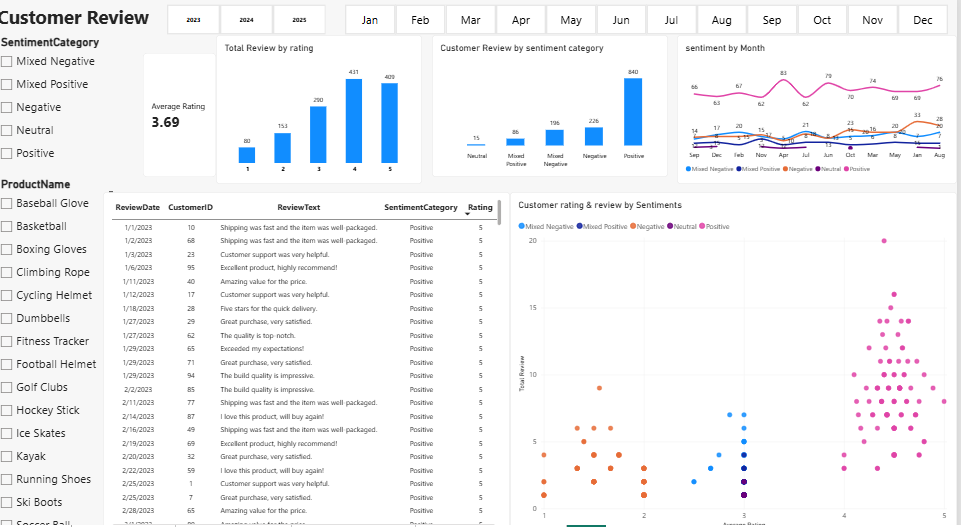

The page's visual inventory and layout, read from the dashboard file:
{"tool":"powerbi","page":{"name":"Customer Review","canvas":[1920,1080],"ordinal":3},"visuals":[{"type":"cardVisual","fields":{"Data":["Calculation.Average Rating"]},"box":[292,112,146,248],"z":0},{"type":"textbox","box":[0,14,324,62],"z":1000},{"type":"slicer","fields":{"Values":["products.ProductName"]},"box":[0,360,232,720],"z":2000},{"type":"slicer","fields":{"Values":["DateTable.Year"]},"box":[320,14,356,62],"z":3000},{"type":"slicer","fields":{"Values":["DateTable.Month Short"]},"box":[676,14,1244,62],"z":4000},{"type":"columnChart","title":"Total Review by rating","fields":{"Category":["customer_reviews_sentement.Rating"],"Y":["Calculation.Total Review"]},"box":[438,76,412,298],"z":4001},{"type":"columnChart","title":"Customer Review by sentiment category","fields":{"Category":["customer_reviews_sentement.SentimentCategory"],"Y":["Calculation.Total Review"]},"box":[870,76,472,284],"z":4002},{"type":"lineChart","title":"sentiment by Month","fields":{"Category":["DateTable.Month Short"],"Series":["customer_reviews_sentement.SentimentCategory"],"Y":["Calculation.Total Review"]},"box":[1360,76,560,298],"z":4003},{"type":"tableEx","fields":{"Values":["customer_reviews_sentement.ReviewDate","customer_reviews_sentement.CustomerID","customer_reviews_sentement.ReviewText","customer_reviews_sentement.SentimentCategory","customer_reviews_sentement.Rating"]},"box":[212,390,814,690],"z":4004},{"type":"scatterChart","title":"Customer rating & review by Sentiments","fields":{"Category":["customer_reviews_sentement.CustomerID"],"Series":["customer_reviews_sentement.SentimentCategory"],"X":["Calculation.Average Rating"],"Y":["Calculation.Total Review"]},"box":[1026,390,894,690],"z":4005},{"type":"slicer","fields":{"Values":["customer_reviews_sentement.SentimentCategory"]},"box":[0,76,264,262],"z":4006}]}

Visuals, with their boxes in screenshot pixels (x1, y1, x2, y2), scaled from the page's 1920x1080 canvas onto the 961x527 screenshot:
cardVisual - Calculation.Average Rating: <bbox>146, 55, 219, 176</bbox>
textbox: <bbox>0, 7, 162, 37</bbox>
slicer - products.ProductName: <bbox>0, 176, 116, 526</bbox>
slicer - DateTable.Year: <bbox>160, 7, 338, 37</bbox>
slicer - DateTable.Month Short: <bbox>338, 7, 960, 37</bbox>
"Total Review by rating" columnChart: <bbox>219, 37, 425, 182</bbox>
"Customer Review by sentiment category" columnChart: <bbox>435, 37, 672, 176</bbox>
"sentiment by Month" lineChart: <bbox>681, 37, 960, 182</bbox>
tableEx - customer_reviews_sentement.ReviewDate x customer_reviews_sentement.CustomerID: <bbox>106, 190, 514, 526</bbox>
"Customer rating & review by Sentiments" scatterChart: <bbox>514, 190, 960, 526</bbox>
slicer - customer_reviews_sentement.SentimentCategory: <bbox>0, 37, 132, 165</bbox>
